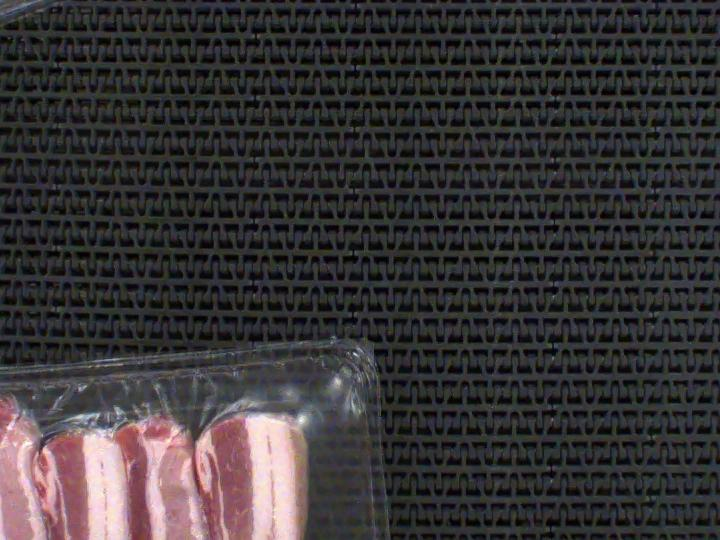unsealed: (0, 352, 380, 540)
